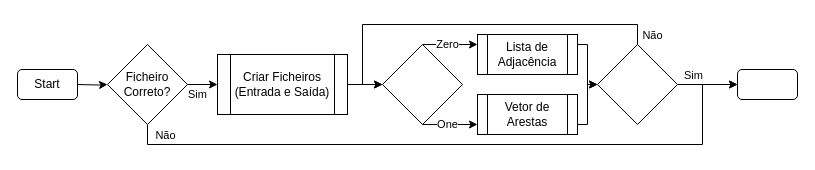
Some shapes in this 815 by 170 pixel diagram are drawn without their labels. The centre of each missing label's shape, as x and y in pixels:
"End" goes at pixel 767 84.
"Fim de Ficheiro?" goes at pixel 637 84.
"Modo?" goes at pixel 422 84.
